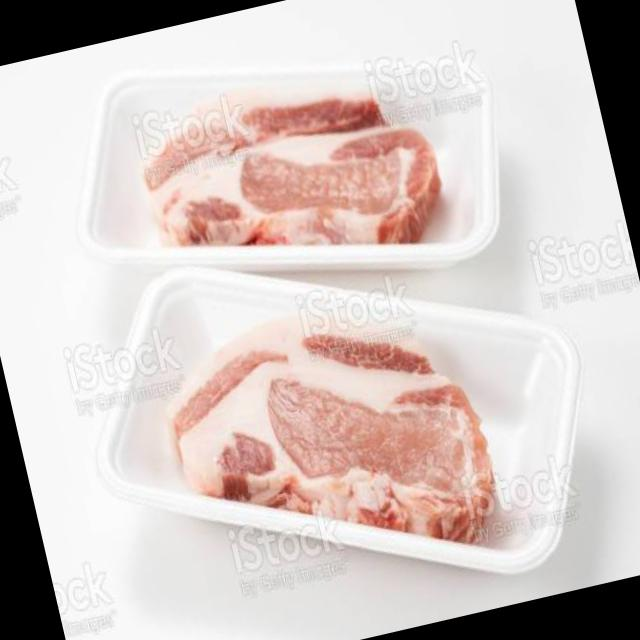pork: (72, 203, 582, 638), (72, 8, 502, 311)
